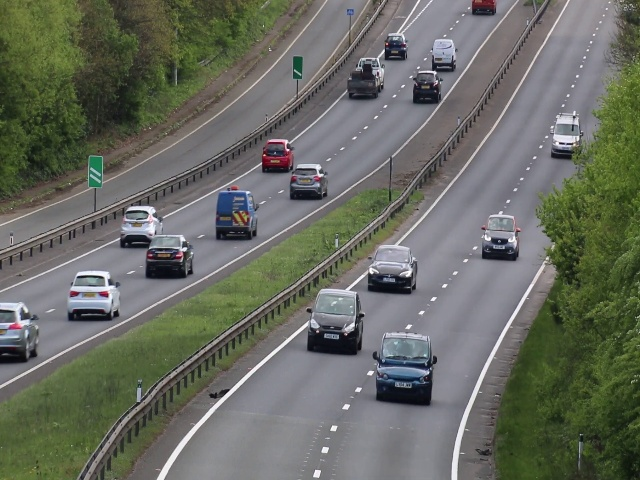car: (373, 332, 434, 404), (306, 290, 368, 351), (67, 269, 123, 323), (366, 243, 420, 292), (1, 300, 41, 359), (145, 233, 195, 278), (215, 189, 258, 238), (478, 213, 521, 261), (120, 205, 164, 249), (287, 160, 331, 201), (348, 54, 386, 98), (550, 109, 582, 161), (261, 136, 295, 172), (412, 68, 442, 103), (432, 36, 459, 73), (383, 29, 410, 62)
